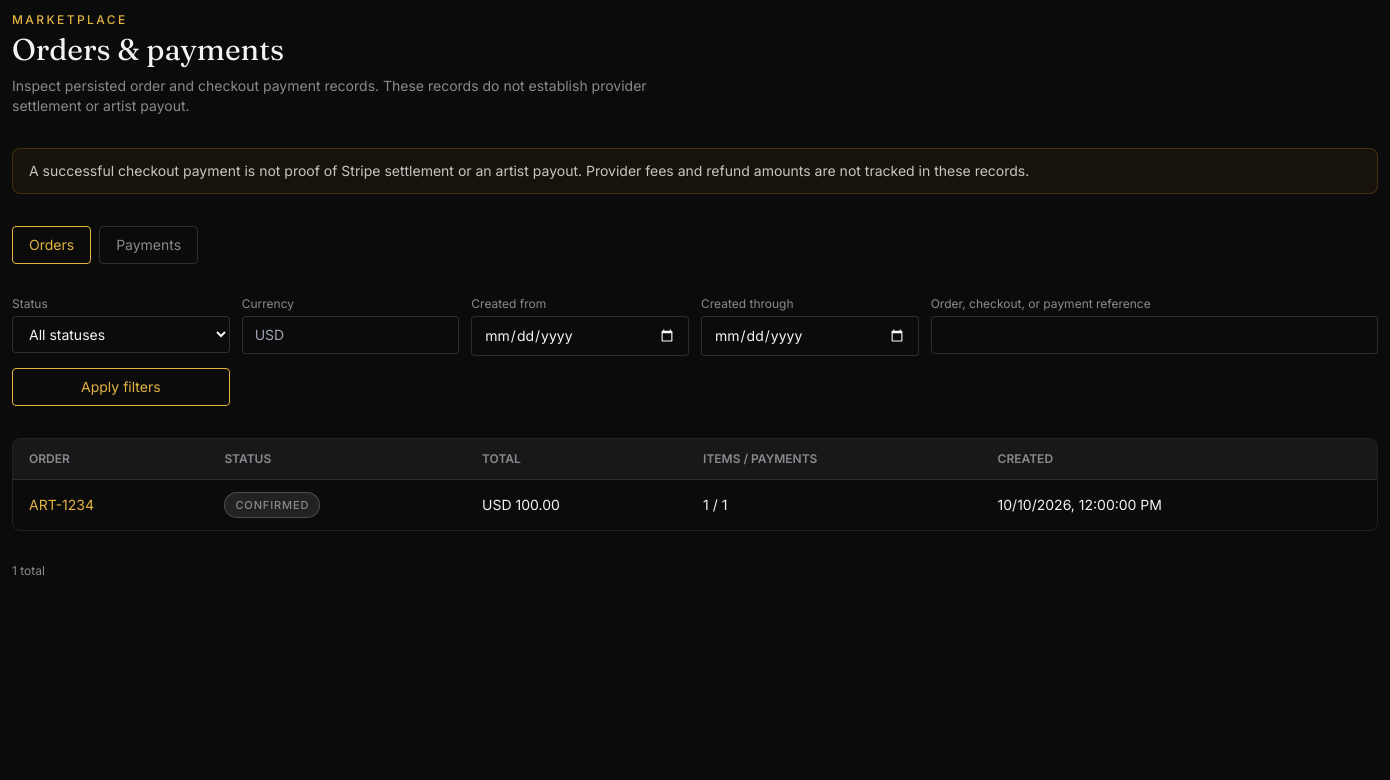
Test: admin orders and payments page › applies validated filters and shows an empty result
Expected: the button "ART-1234" is shown, [29,495,94,515]
Select "CONFIRMED" in the dropdown labelled "Status" at (121, 334), box [12,316,230,353]
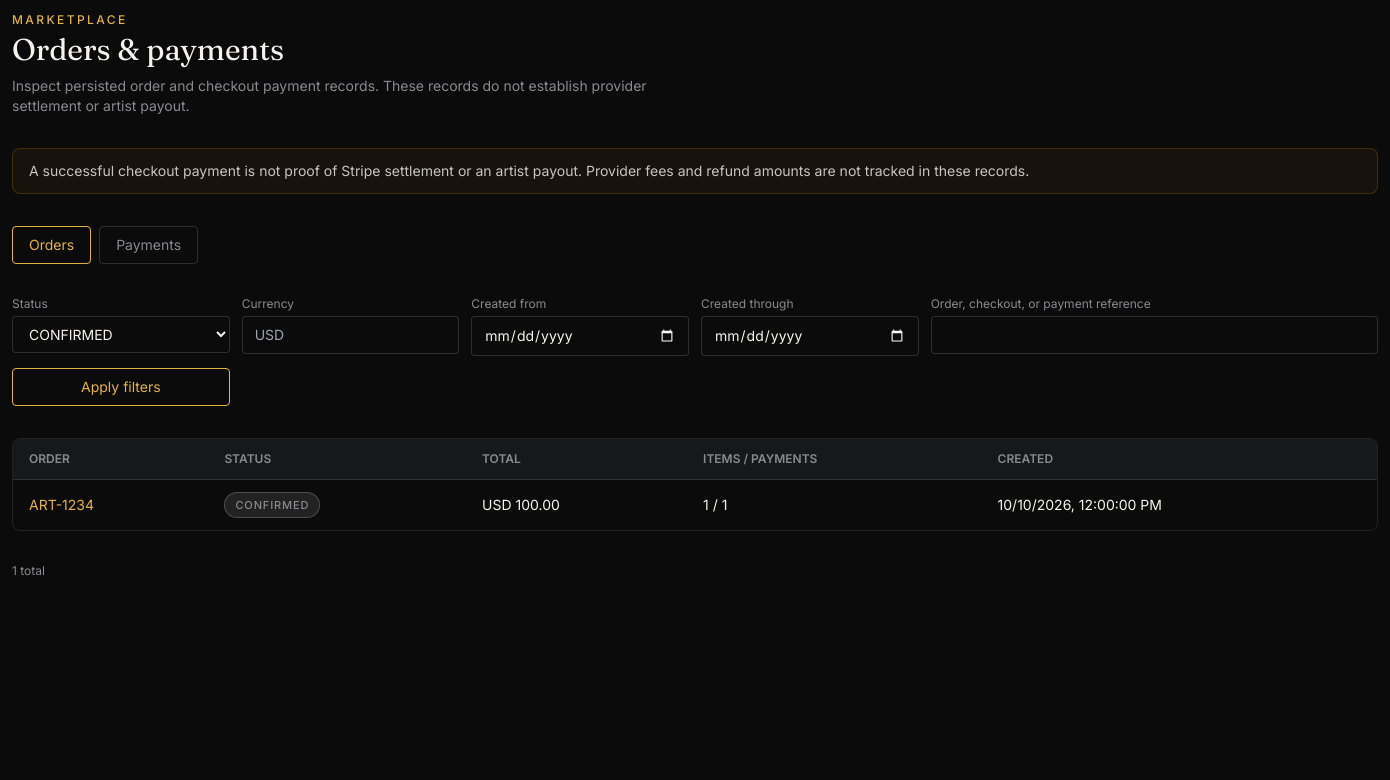
Type "usd" into the field labelled "Currency" at (351, 335), box [242,316,459,354]
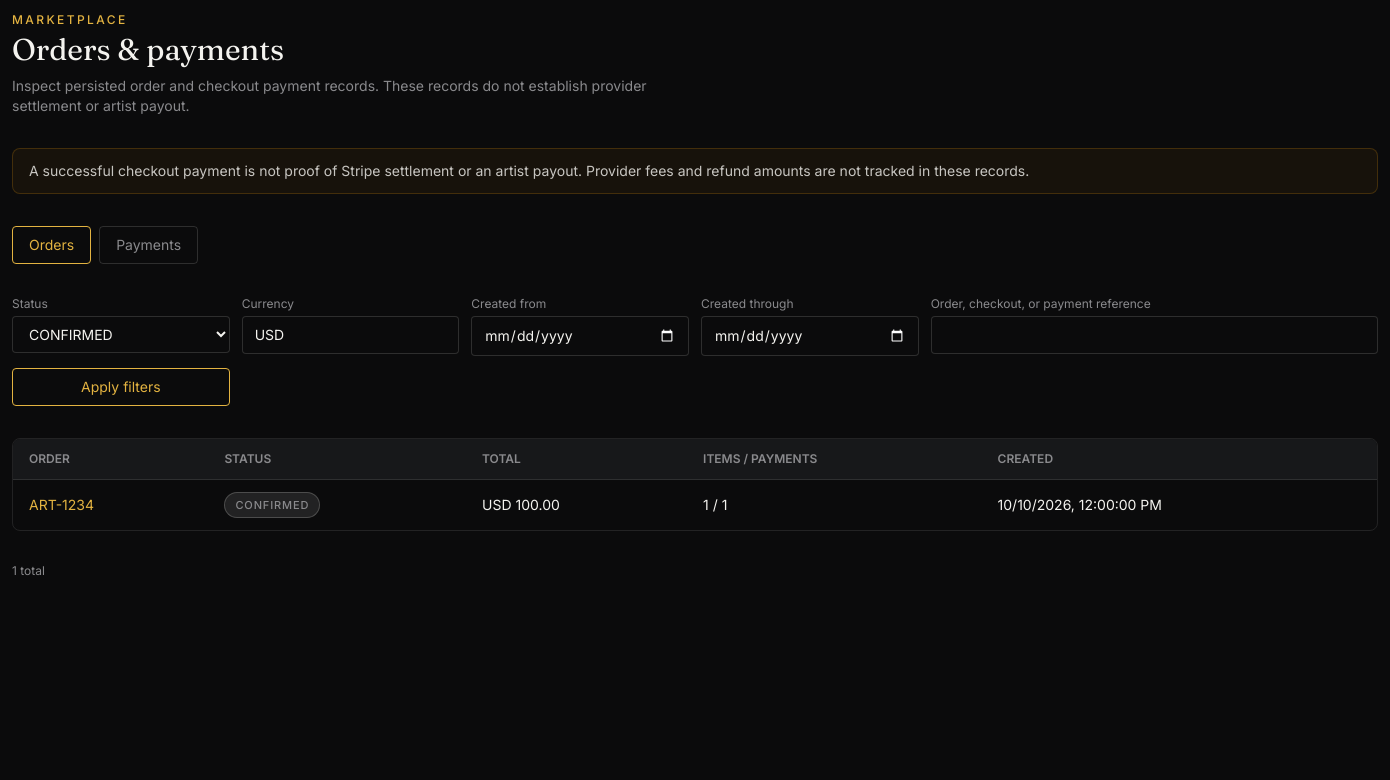
Type "2026-10-01" into the date field labelled "Created from" at (580, 336), box [471,316,689,356]
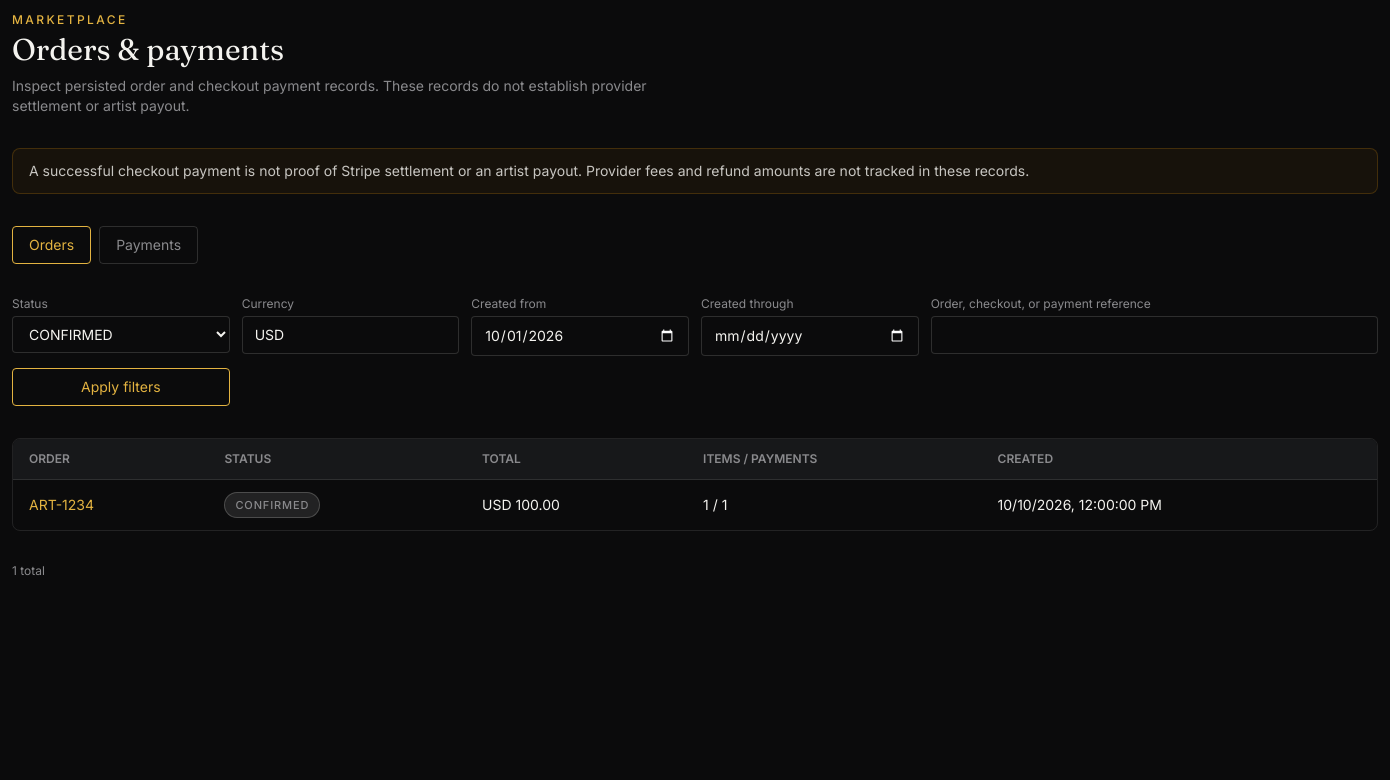
Type "2026-10-31" into the date field labelled "Created through" at (810, 336), box [701,316,919,356]
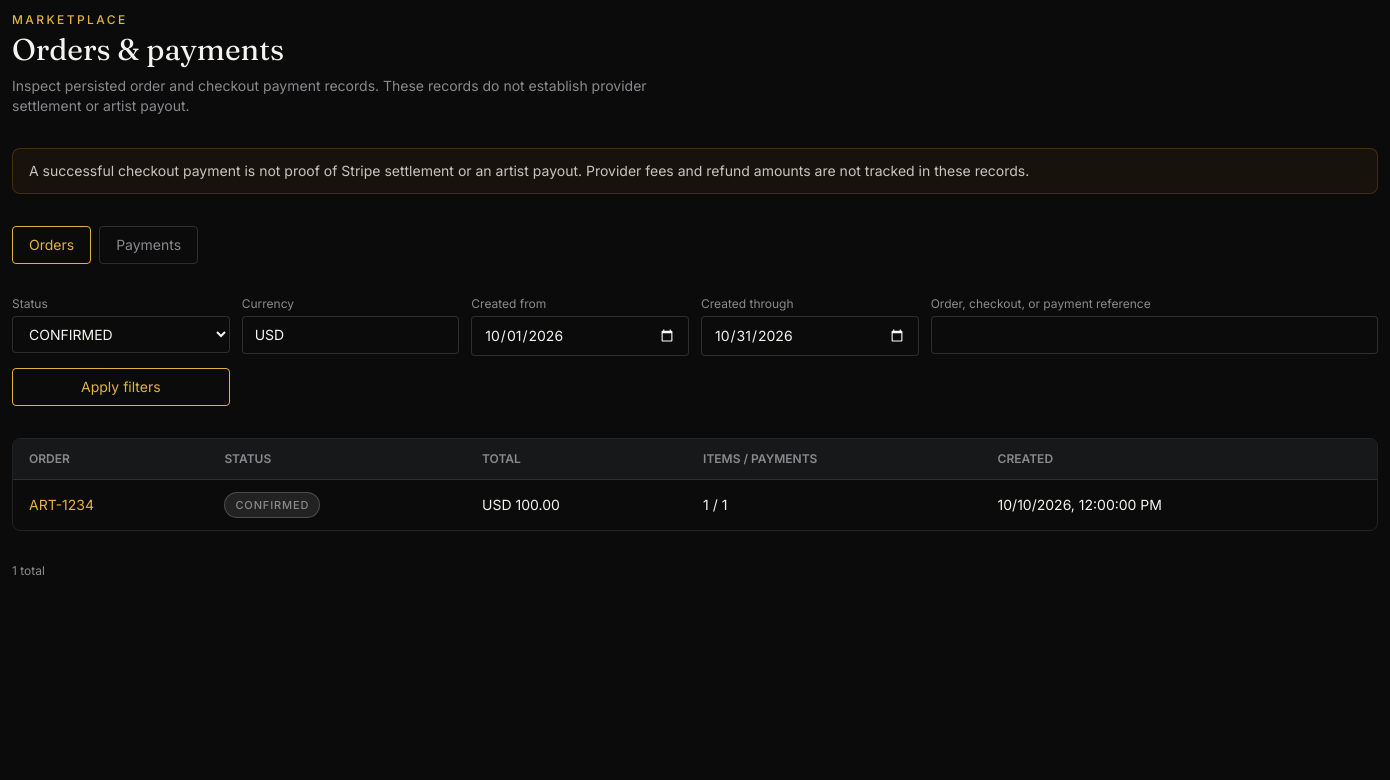
Type "ART-1234" into the field labelled "Order, checkout, or payment reference" at (1154, 335), box [931,316,1378,354]
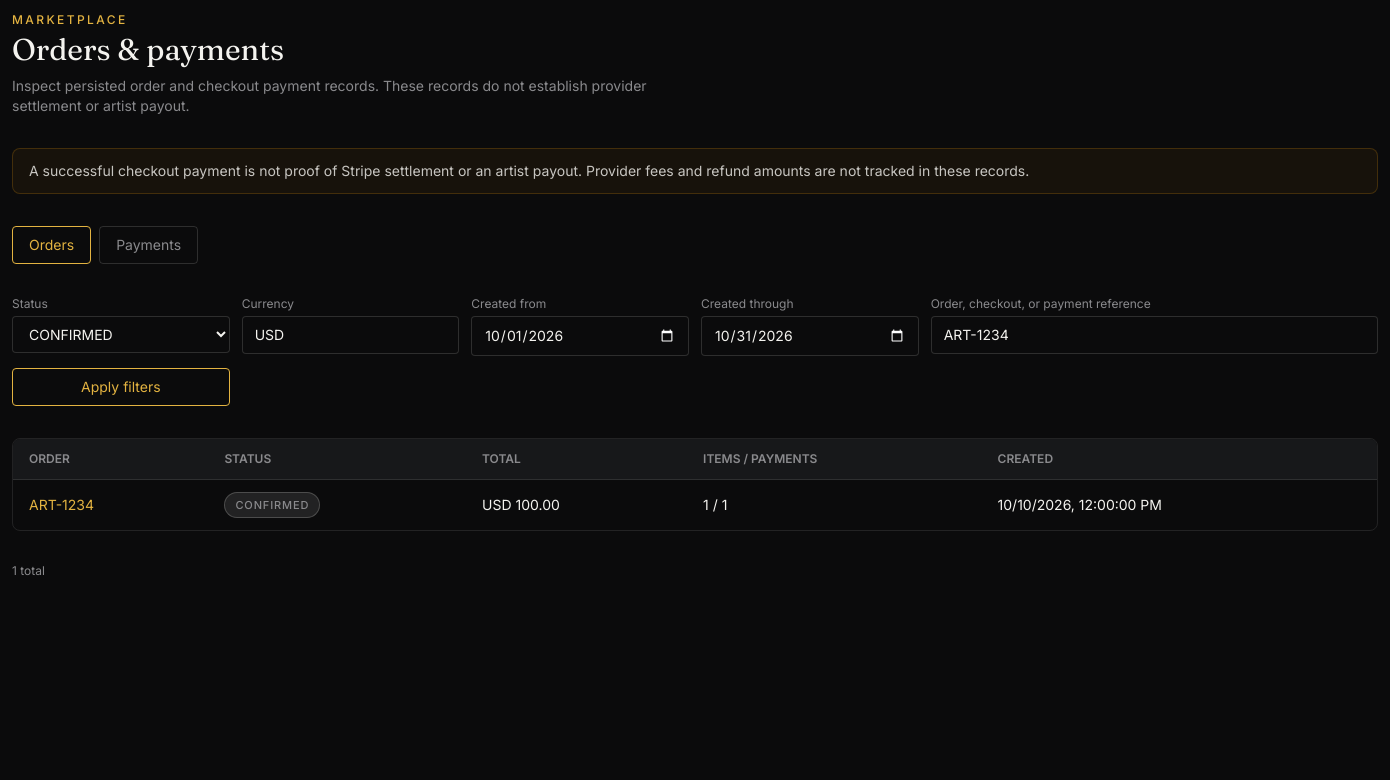
Click the button "Apply filters" at (121, 387), box [12,368,230,406]
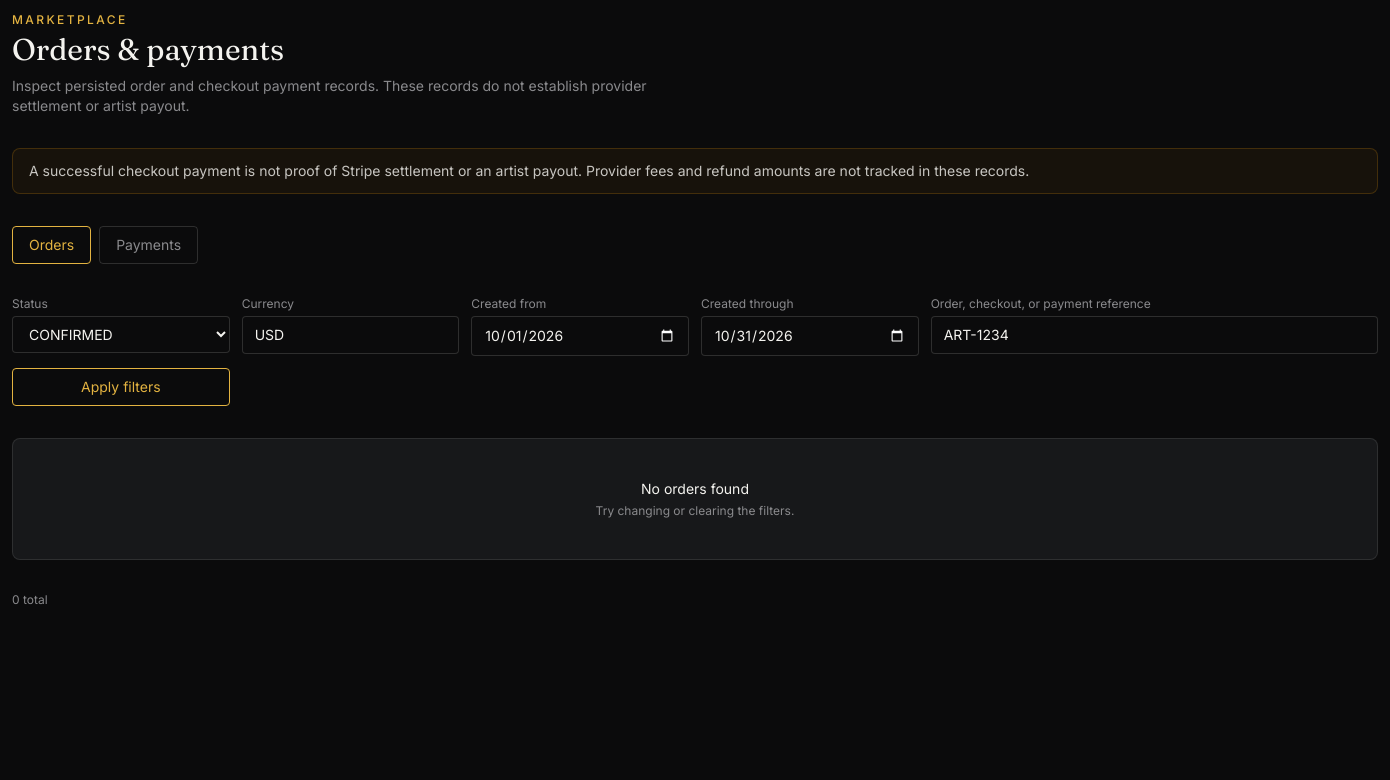
Result: the text "No orders found" is shown at [641,480,749,497]
